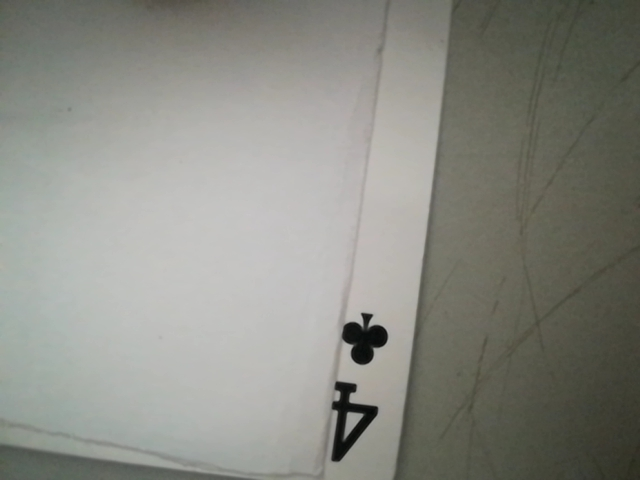mh 4: (313, 303, 403, 473)
